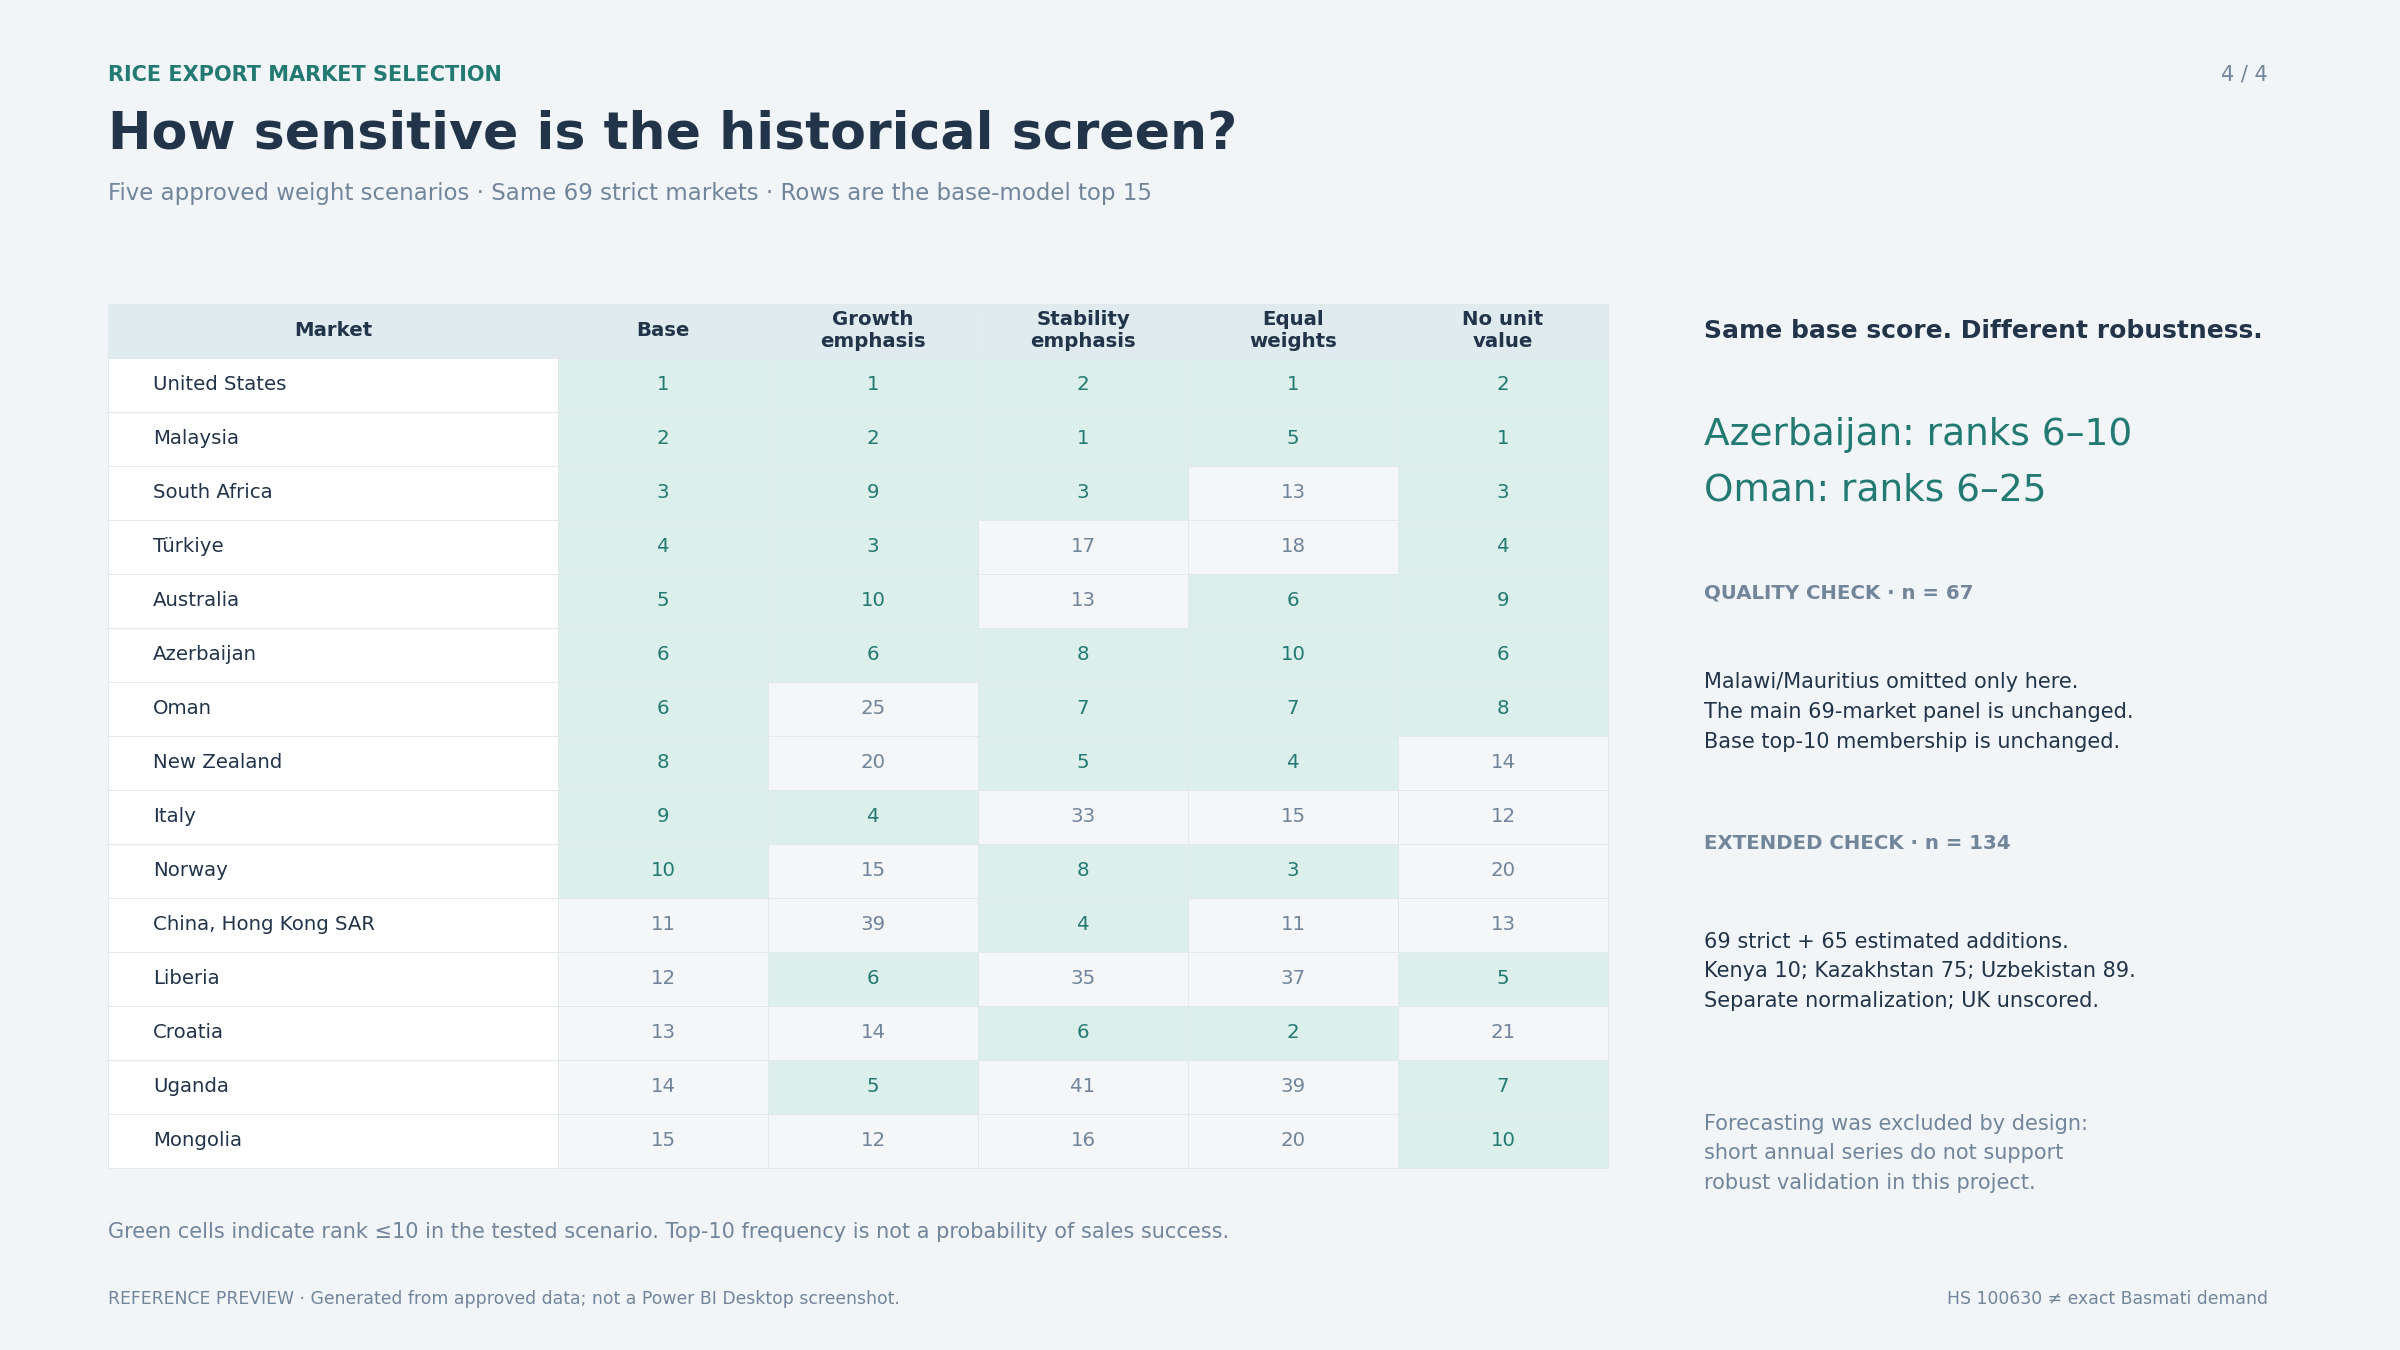

What the dashboard file says about the page in this screenshot:
{"tool":"powerbi","page":{"name":"How robust are the rankings? ","canvas":[1920,1080],"ordinal":3},"visuals":[{"type":"shape","box":[1351.1,258.1,529.2,216.9],"z":0},{"type":"shape","box":[0,0,1919.3,149.6],"z":1000},{"type":"pivotTable","title":"Rank under alternative weights","fields":{"Columns":["Scenarios.Scenario"],"Rows":["Markets.StrictBaseRank","Markets.Market"],"Values":["Markets.Original universe rank"]},"box":[0,258.1,1322.9,691.8],"z":2000},{"type":"textbox","title":"How robust are the rankings?","box":[28.2,28.2,839.3,108.4],"z":3000},{"type":"shape","box":[0,164.8,1891.1,93.3],"z":4000},{"type":"textbox","title":"Same base rank. Different robustness.","box":[1379.3,288.4,488,43.4],"z":5000},{"type":"textbox","box":[1379.3,364.3,488,86.7],"z":6000},{"type":"shape","box":[1379.3,451.1,488,106.3],"z":7000},{"type":"textbox","title":"Quality sensitivity","box":[1379.3,557.3,540,455.4],"z":8000},{"type":"shape","box":[28.2,949.9,1891.1,88.9],"z":9000},{"type":"textbox","box":[28.2,1038.8,1891.1,41.2],"z":10000}]}

Visuals, with their boxes in screenshot pixels (x1, y1, x2, y2), scaled from the page's 1920x1080 canvas onto the 2400x1350 screenshot:
shape: x1=1689, y1=323, x2=2350, y2=594
shape: x1=0, y1=0, x2=2399, y2=187
"Rank under alternative weights" pivotTable: x1=0, y1=323, x2=1654, y2=1187
"How robust are the rankings?" textbox: x1=35, y1=35, x2=1084, y2=171
shape: x1=0, y1=206, x2=2364, y2=323
"Same base rank. Different robustness." textbox: x1=1724, y1=360, x2=2334, y2=415
textbox: x1=1724, y1=455, x2=2334, y2=564
shape: x1=1724, y1=564, x2=2334, y2=697
"Quality sensitivity" textbox: x1=1724, y1=697, x2=2399, y2=1266
shape: x1=35, y1=1187, x2=2399, y2=1298
textbox: x1=35, y1=1298, x2=2399, y2=1349
